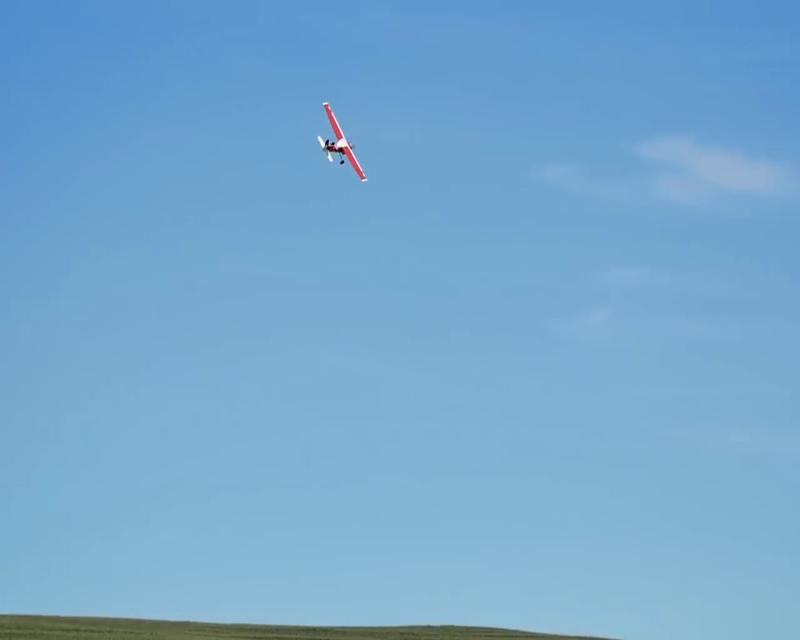UAV: (316, 101, 367, 182)
